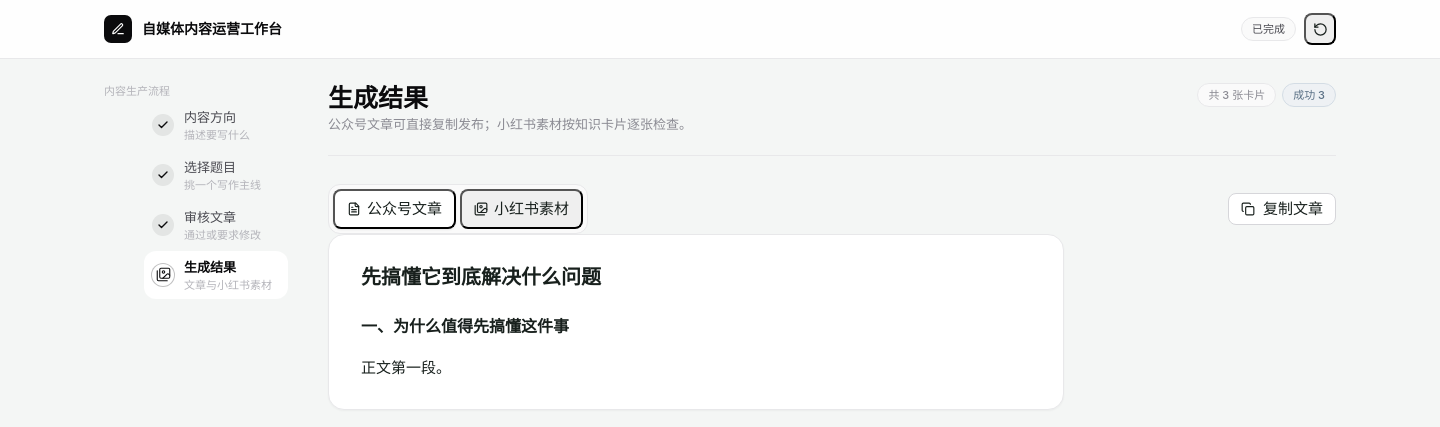
Test: 最终结果 › 复制文章：写入剪贴板并给出非阻塞的短暂反馈
Check: the element with test id "screen-result" is shown, box [328,83,1336,410]
Click the button "复制文章" at (1282, 209), box [1228,193,1336,225]
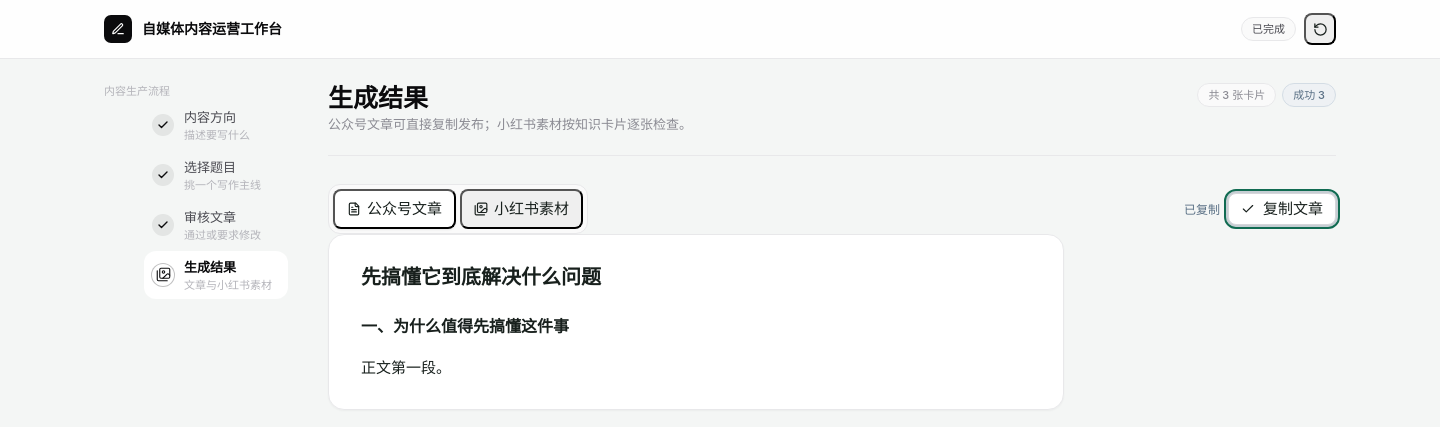
Check: the element with test id "final-article" is shown, box [361,265,601,377]
Check: the text "已复制" is shown, box [1184,200,1220,219]
